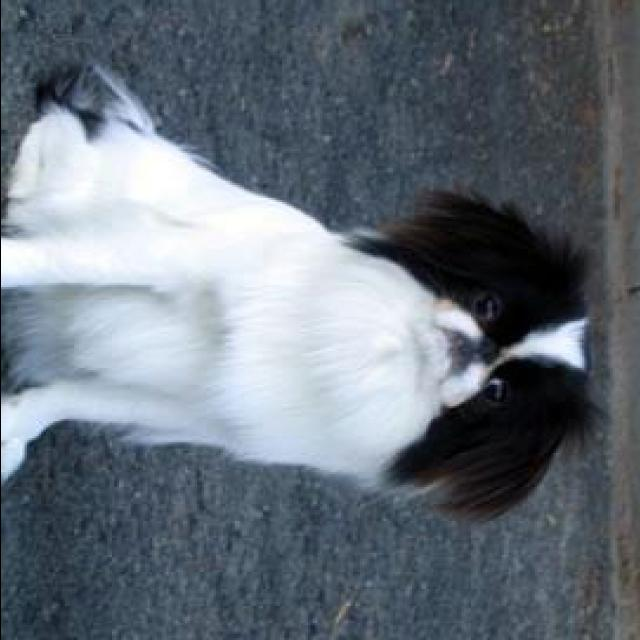husky: (2, 57, 610, 523)
